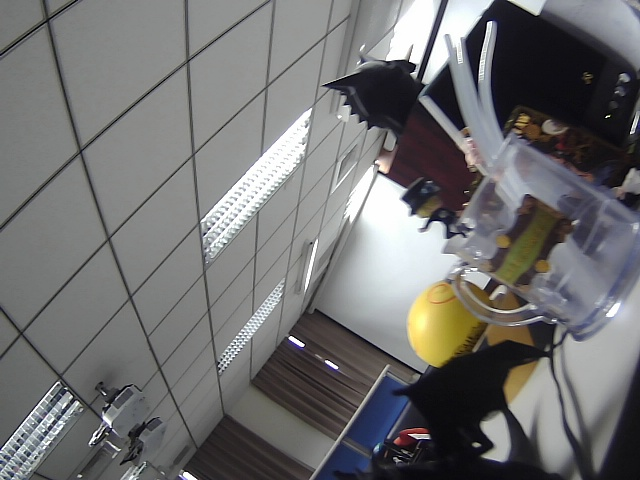charizard: (287, 330, 576, 480)
